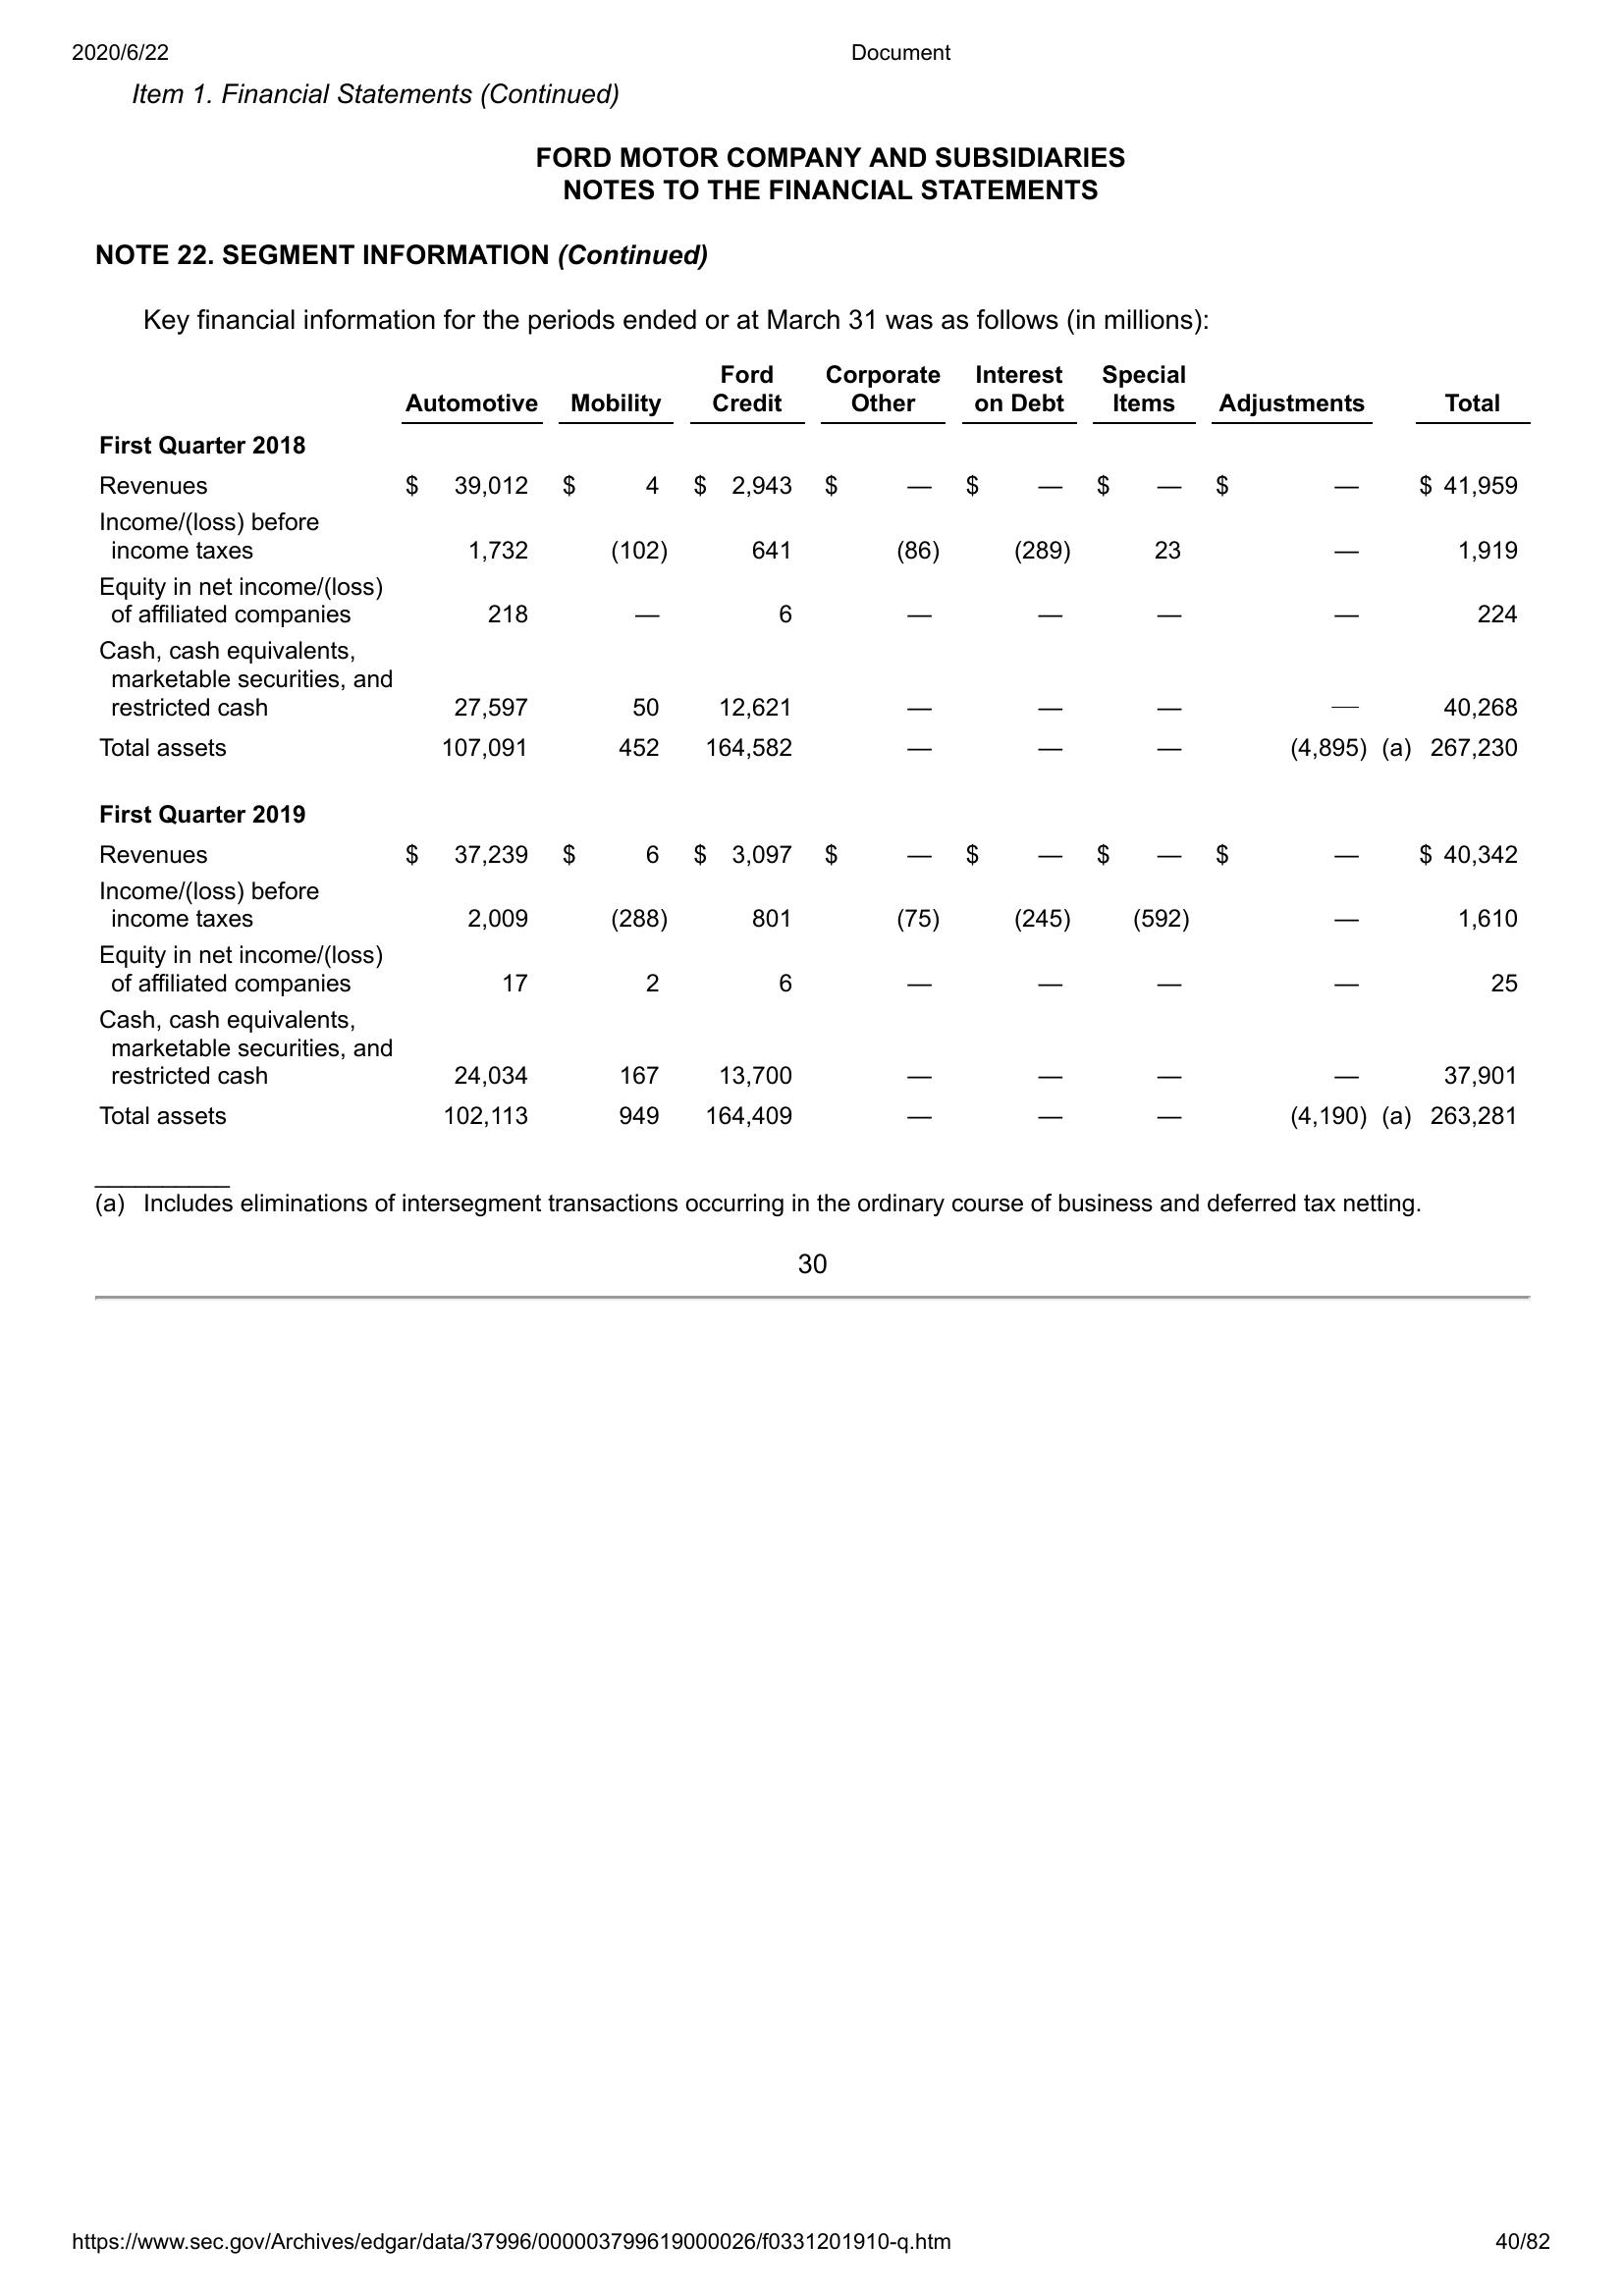table: (88, 353, 1526, 1130)
